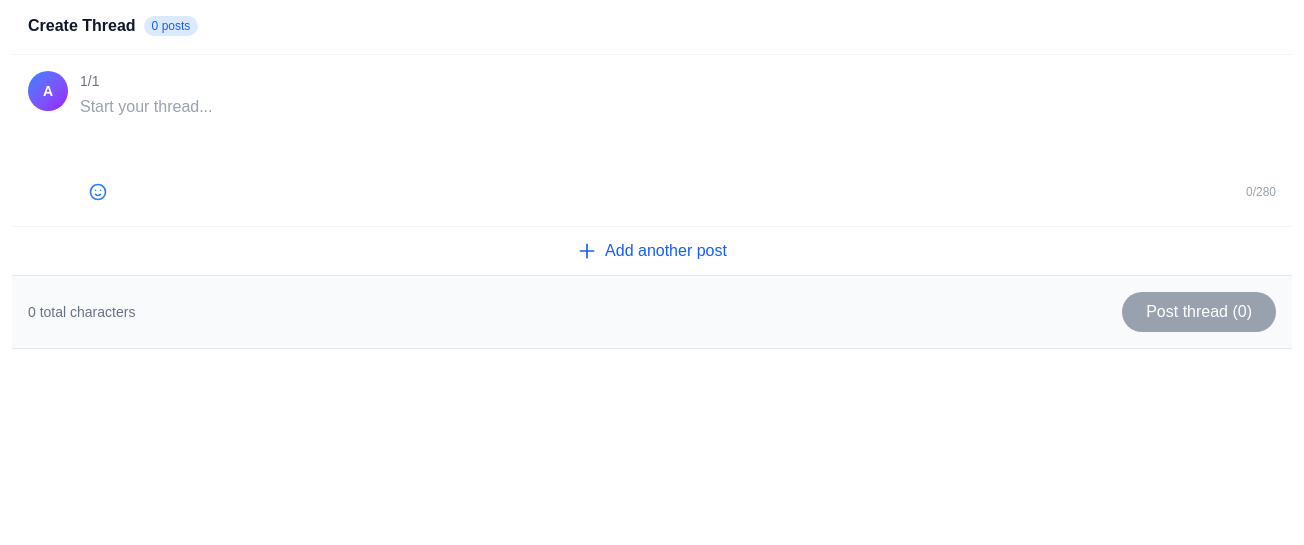
Test: ThreadComposer › add and remove posts › addPost increases count
Click the button "Add another post".
click(652, 250)  # box [12,226,1292,275]
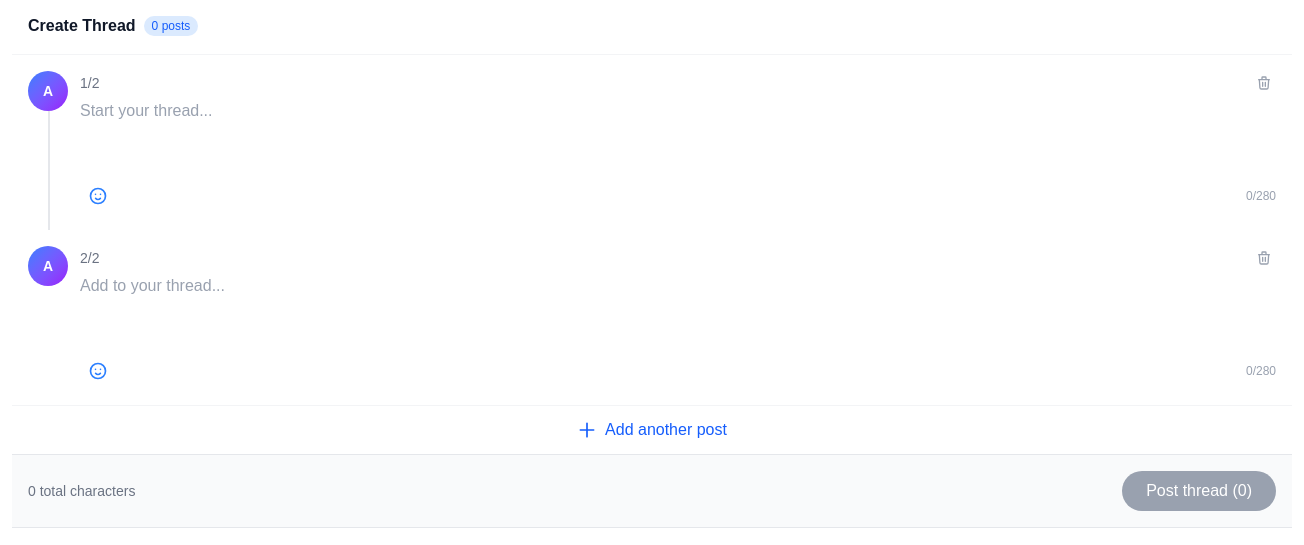
Expected: the text "1/2" is shown, [80,73,100,93]
Expected: the text "2/2" is shown, [80,248,100,268]
